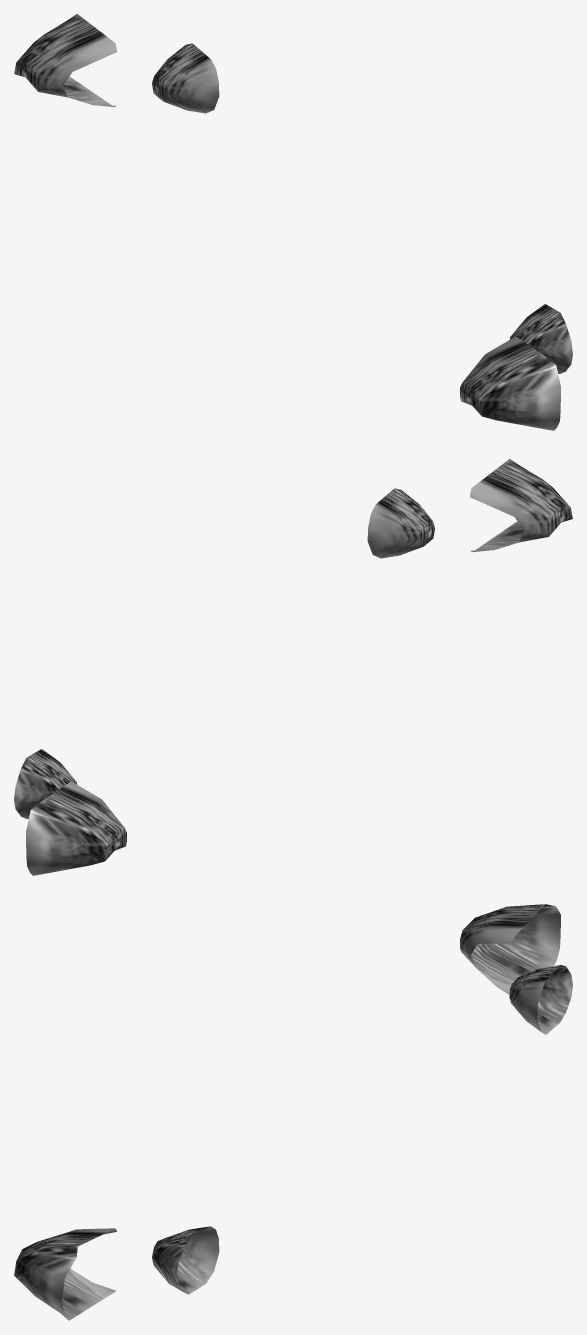
Rendered from gallo99_headlights_ucb_lights_and_glass_0_lev3.glb.
The picture shows the model from 3 angles, top to bottom: view 1: azimuth 30°, elevation 25°; view 2: azimuth 150°, elevation 25°; view 3: azimuth 330°, elevation 25°; orthographic projection.
Visible parts, largest first — view 1: gallo99_headlights_ucb_lights_and_glass_0_lev3; view 2: gallo99_headlights_ucb_lights_and_glass_0_lev3; view 3: gallo99_headlights_ucb_lights_and_glass_0_lev3.
Boxes of the visible parts, left/top/right/bottom form: gallo99_headlights_ucb_lights_and_glass_0_lev3: left=14, top=14, right=572, bottom=430; gallo99_headlights_ucb_lights_and_glass_0_lev3: left=14, top=459, right=572, bottom=875; gallo99_headlights_ucb_lights_and_glass_0_lev3: left=14, top=904, right=572, bottom=1320.
Bounding box in the file's own units: 0.2089 × 0.1045 × 1.36.
Materials: 1 (1 with a texture image).
